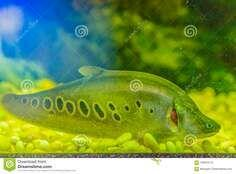Knifefish: (3, 63, 220, 146)
